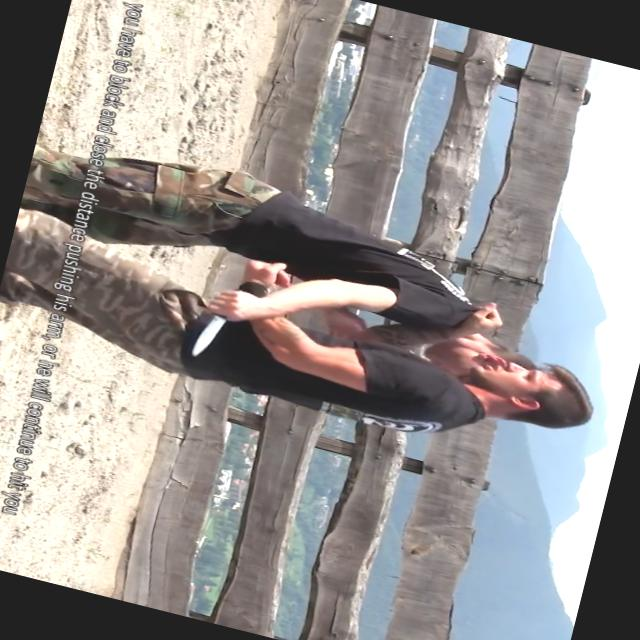knife: (178, 277, 260, 370)
